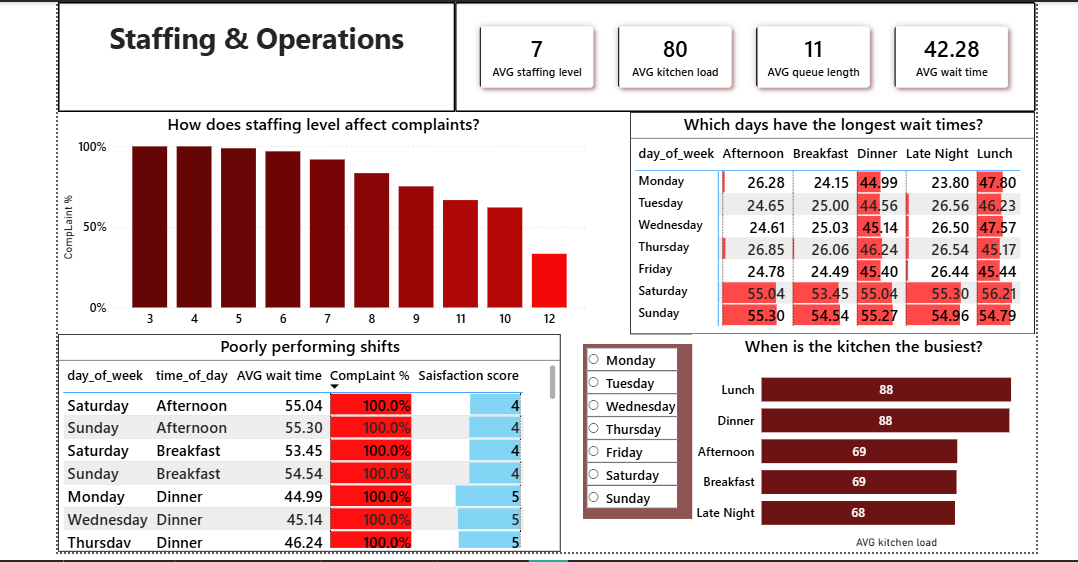

This screenshot's page, from the dashboard's own definition file:
{"tool":"powerbi","page":{"name":"staffing & ops","canvas":[1280,720],"ordinal":2},"visuals":[{"type":"cardVisual","fields":{"Data":["Hospitality_Dataset_Food_Service.AVG staffing level","Hospitality_Dataset_Food_Service.AVG kitchen load","Hospitality_Dataset_Food_Service.AVG queue length","Hospitality_Dataset_Food_Service.AVG wait time"]},"box":[520.2,0,759.7,144],"z":0},{"type":"pivotTable","title":"Which days have the longest wait times?","fields":{"Values":["Hospitality_Dataset_Food_Service.AVG wait time"],"Rows":["Hospitality_Dataset_Food_Service.day_of_week"],"Columns":["Hospitality_Dataset_Food_Service.time_of_day"]},"box":[749.4,144,530.4,290.9],"z":1000},{"type":"clusteredColumnChart","title":"How does  staffing level affect complaints?","fields":{"Category":["Hospitality_Dataset_Food_Service.staffing_level"],"Y":["Hospitality_Dataset_Food_Service.CompLaint %"]},"box":[0,144,695,290.9],"z":2000},{"type":"barChart","title":"When is the kitchen the busiest?","fields":{"Category":["Hospitality_Dataset_Food_Service.time_of_day"],"Y":["Hospitality_Dataset_Food_Service.AVG kitchen load"]},"box":[830.2,434.9,449.6,285.1],"z":3000},{"type":"tableEx","title":"Poorly performing shifts","fields":{"Values":["Hospitality_Dataset_Food_Service.day_of_week","Hospitality_Dataset_Food_Service.time_of_day","Hospitality_Dataset_Food_Service.AVG wait time","Hospitality_Dataset_Food_Service.CompLaint %","Hospitality_Dataset_Food_Service.Saisfaction score"]},"box":[0,434.9,657.9,284.9],"z":4000},{"type":"textbox","box":[0,0,520.2,144],"z":4001},{"type":"listSlicer","fields":{"Values":["Hospitality_Dataset_Food_Service.day_of_week"]},"box":[687.7,448.2,142.5,229.2],"z":4002}]}

Visuals, with their boxes on the page's 1280x720 design canvas (x1, y1, x2, y2). These are canvas units, not pixel positions in the 1078x562 screenshot, which may show the page scaled, cropped or inside an application window:
cardVisual - Hospitality_Dataset_Food_Service.AVG staffing level x Hospitality_Dataset_Food_Service.AVG kitchen load: select_region(520, 0, 1280, 144)
"Which days have the longest wait times?" pivotTable: select_region(749, 144, 1280, 435)
"How does  staffing level affect complaints?" clusteredColumnChart: select_region(0, 144, 695, 435)
"When is the kitchen the busiest?" barChart: select_region(830, 435, 1280, 720)
"Poorly performing shifts" tableEx: select_region(0, 435, 658, 720)
textbox: select_region(0, 0, 520, 144)
listSlicer - Hospitality_Dataset_Food_Service.day_of_week: select_region(688, 448, 830, 677)
